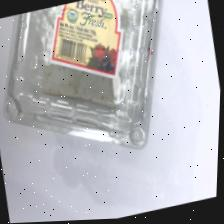plastic: (7, 0, 163, 150)
